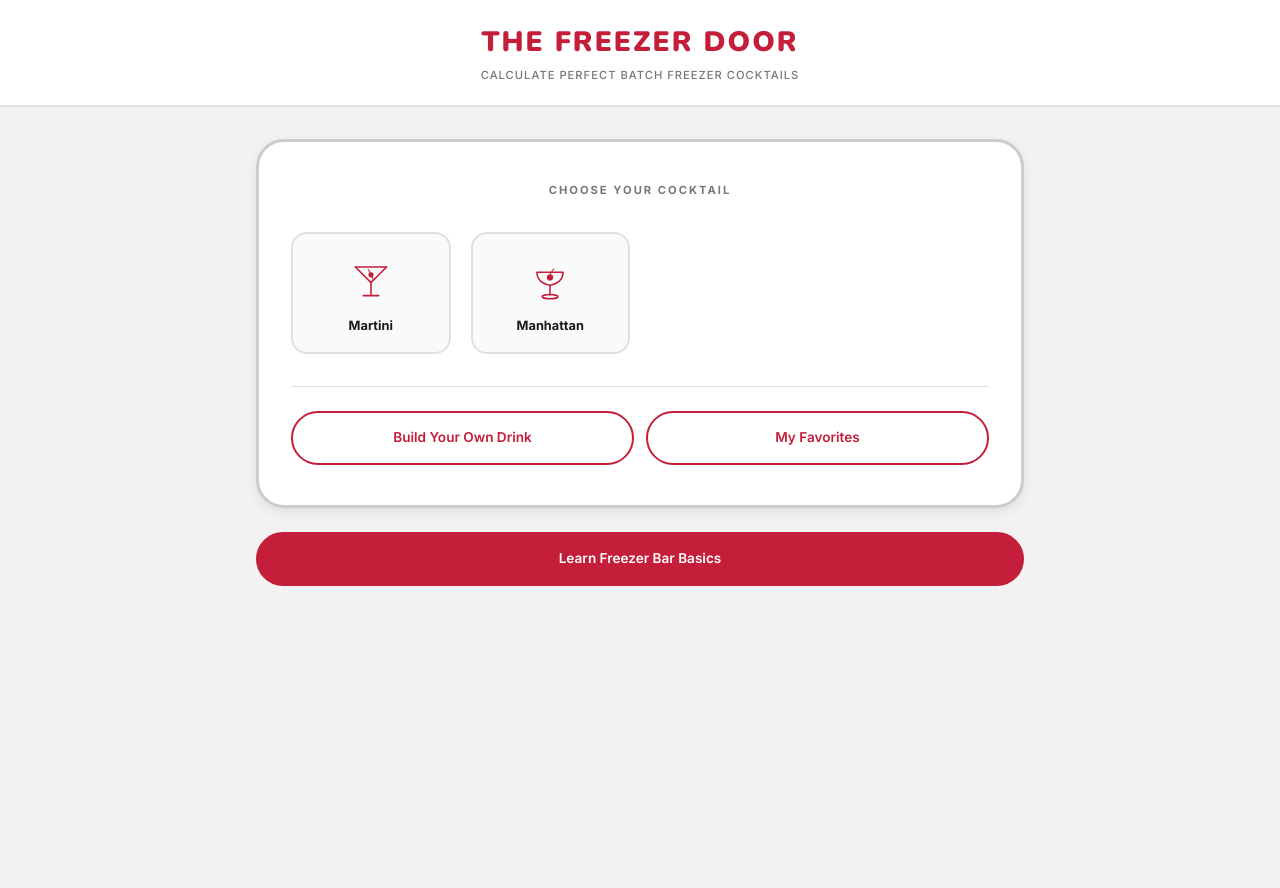
App › Navigation › navigates from home to calculator when clicking a cocktail card
Expected: the heading "Martini" is shown, [348,316,393,336]
# Click on the Martini card
Step 1. Click the link with test id "cocktail-card-martini" → click(371, 293), box [291,232,450,354]
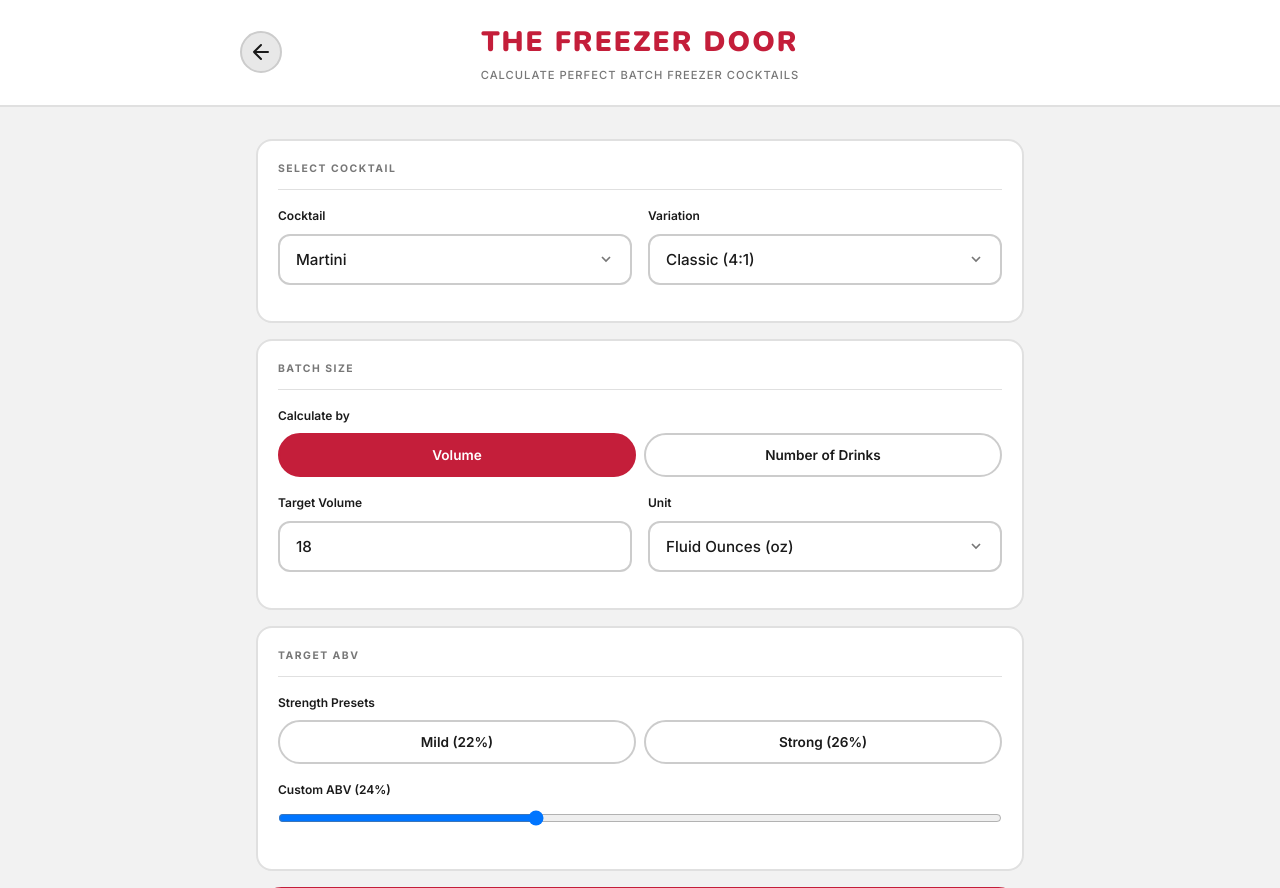
Result: the link named "Back to home" is shown at [240,31,282,73]
